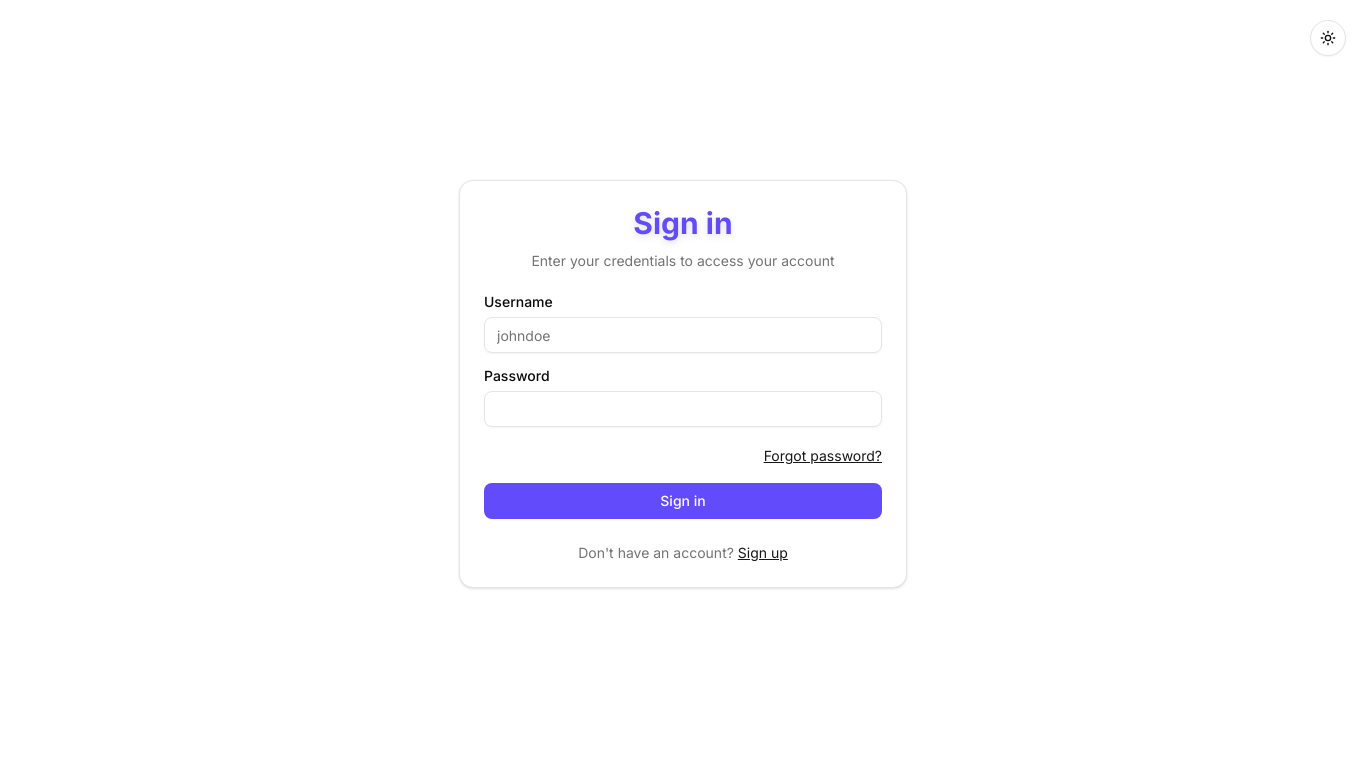
SignInPage › shows validation errors when form is submitted with empty fields
// Submit the form without filling any fields
Click the button "Sign in".
click(683, 501)  # box [484, 483, 882, 519]
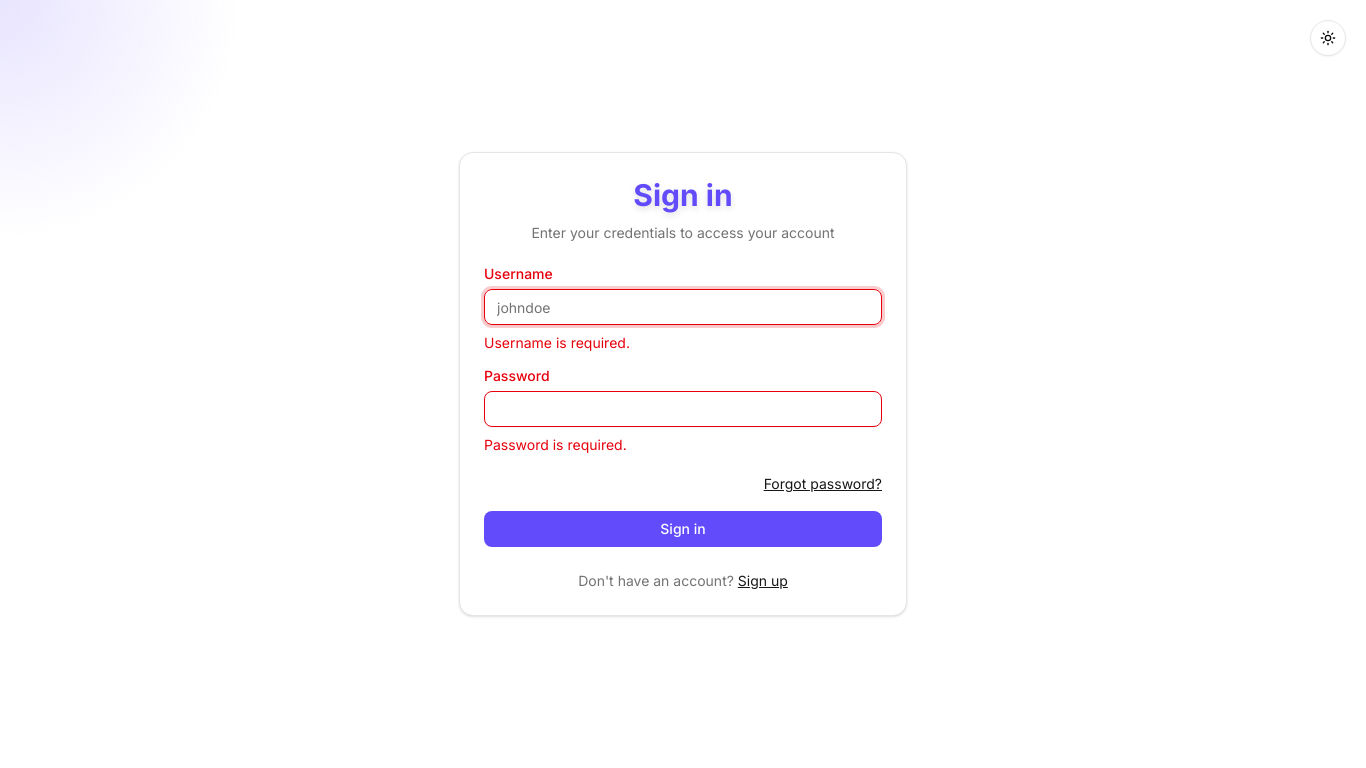
Now the text "Username is required." is shown, box [484, 334, 630, 351]
Now the text "Password is required." is shown, box [484, 436, 627, 453]
